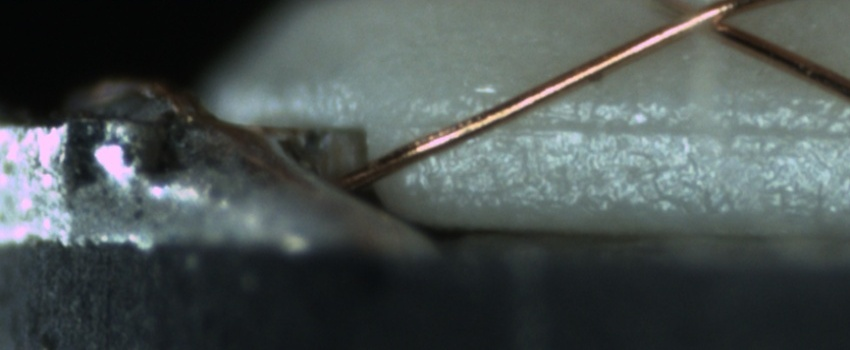CL: (643, 2, 755, 43)
DL: (385, 99, 850, 163)
